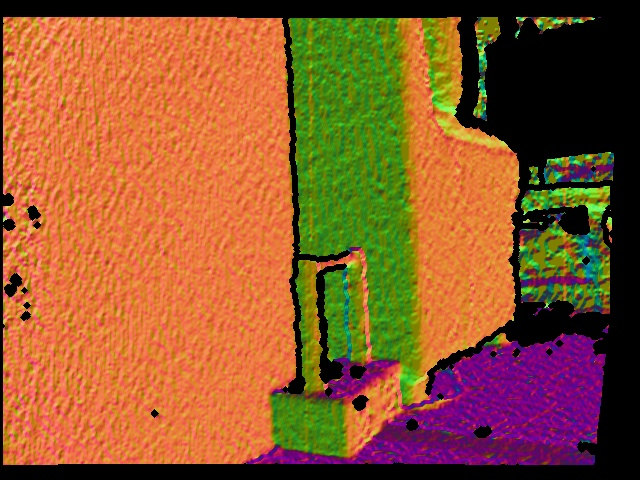station: (271, 250, 406, 456)
